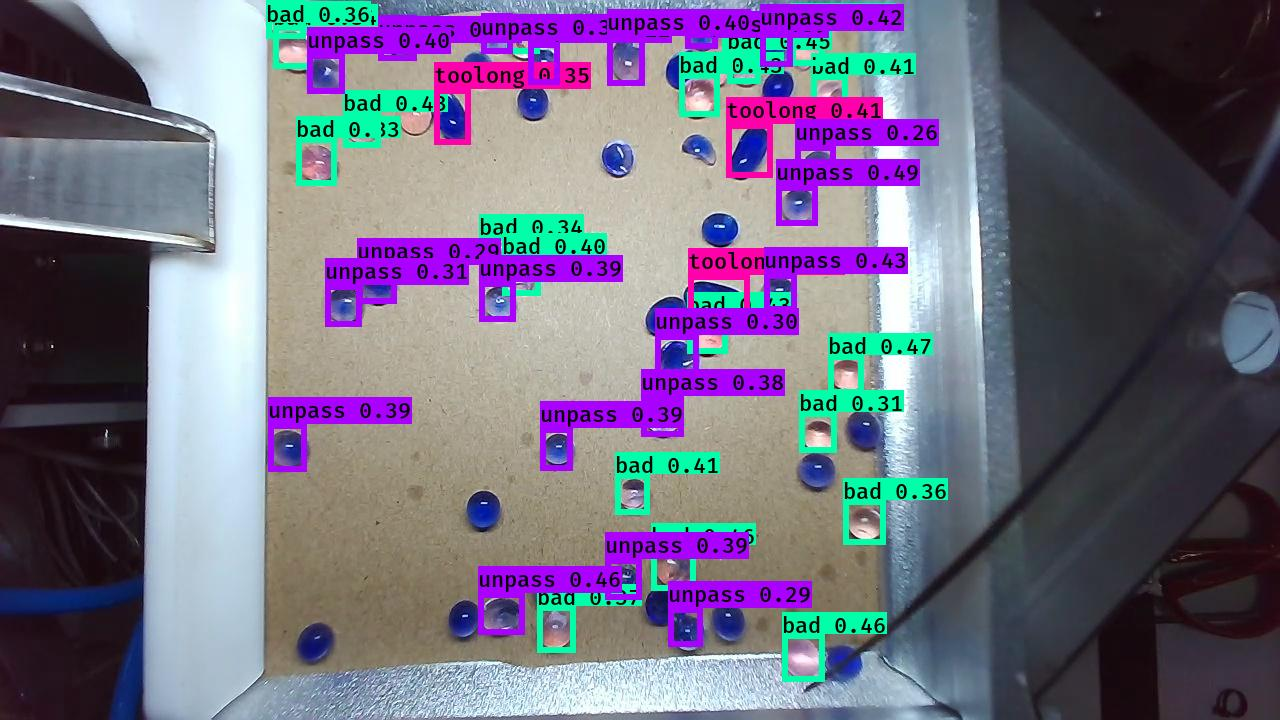bad: (648, 543, 694, 590), (678, 76, 719, 120), (778, 639, 822, 680), (275, 30, 318, 71), (298, 145, 340, 186), (689, 314, 730, 355), (535, 611, 576, 651), (846, 503, 886, 542), (789, 24, 822, 71), (472, 237, 515, 273), (723, 14, 758, 57), (509, 251, 540, 298), (504, 21, 541, 60), (830, 360, 869, 397), (397, 96, 432, 137), (798, 420, 837, 456), (813, 78, 850, 114), (731, 51, 765, 87), (267, 4, 304, 37), (618, 477, 651, 514), (344, 113, 380, 146)
defact: (678, 133, 719, 165)
pass: (642, 294, 688, 339), (643, 584, 688, 627), (296, 621, 336, 667), (358, 267, 401, 309), (529, 567, 570, 609), (663, 44, 699, 89), (703, 212, 743, 252), (464, 489, 500, 532), (796, 453, 836, 491), (847, 410, 883, 452), (712, 601, 747, 643), (382, 19, 417, 59), (528, 228, 561, 270), (765, 67, 800, 106), (516, 83, 549, 123), (449, 599, 480, 640), (463, 51, 495, 90)
toolong: (684, 280, 749, 327), (429, 88, 472, 147), (729, 123, 772, 181)
unpass: (606, 35, 647, 85), (658, 339, 703, 384), (478, 593, 523, 635), (267, 431, 311, 471), (825, 640, 864, 684), (326, 285, 366, 326), (759, 273, 797, 316), (798, 148, 837, 188), (308, 55, 346, 96), (645, 398, 681, 440), (666, 613, 706, 650), (781, 186, 819, 224), (603, 562, 641, 600), (477, 13, 511, 54), (600, 140, 636, 178), (481, 283, 516, 321), (685, 13, 720, 51), (539, 433, 576, 468), (757, 31, 788, 70), (527, 49, 560, 81)
